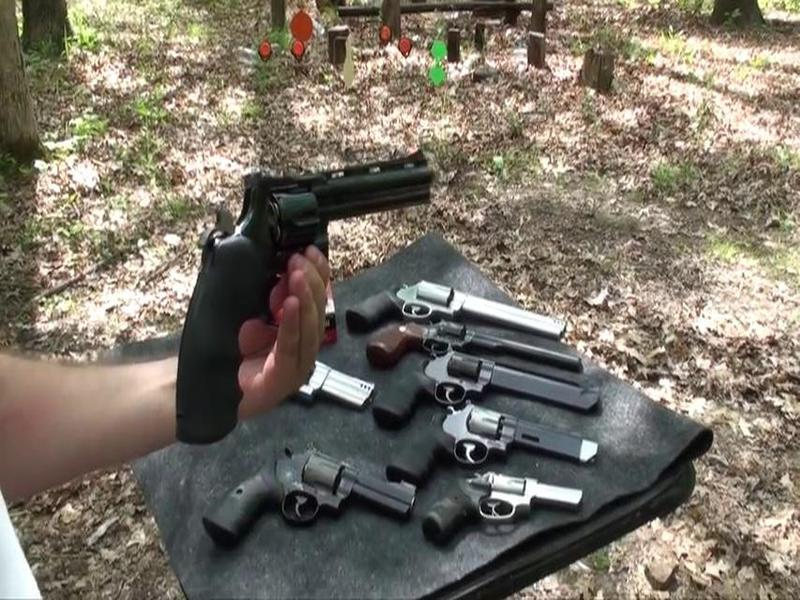Revolver: (186, 154, 455, 366)
